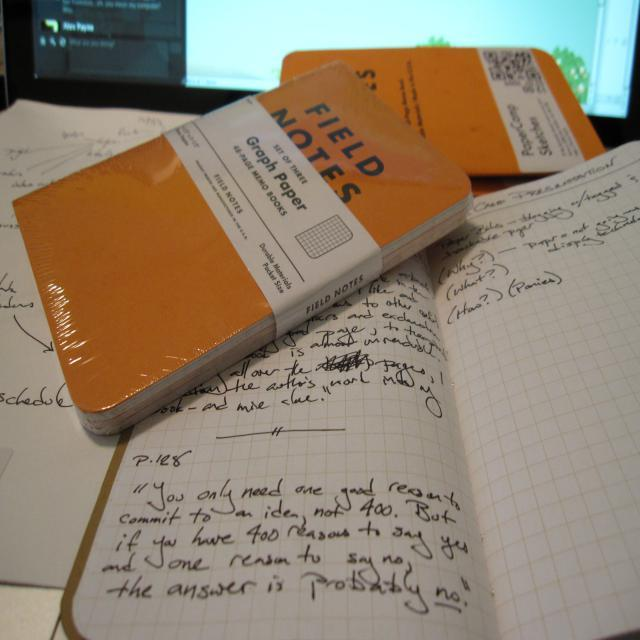qrcode: (485, 52, 542, 81)
